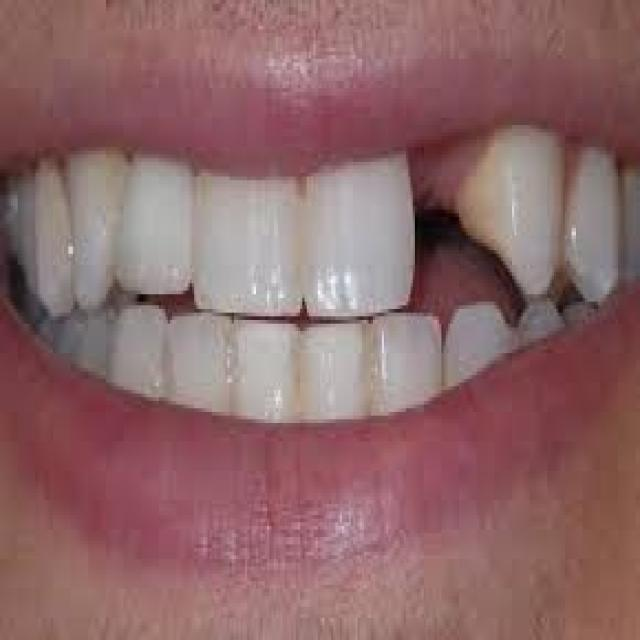tooth: (304, 143, 415, 320), (188, 166, 306, 320), (466, 121, 567, 298), (121, 140, 192, 294), (68, 144, 126, 306), (225, 309, 307, 416), (563, 143, 618, 298), (168, 309, 240, 416), (29, 158, 75, 320), (296, 320, 373, 412), (373, 302, 441, 404), (444, 298, 516, 375), (115, 302, 172, 397)
